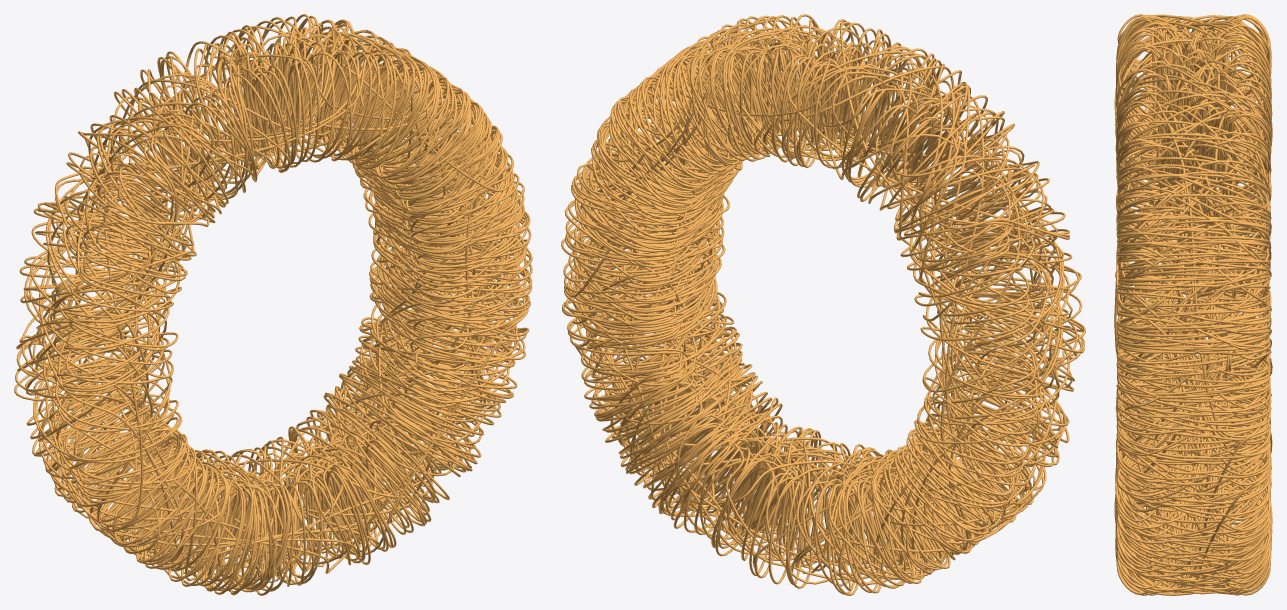
File: letter_o.glb
The picture shows the model from 3 angles, left to right: view 1: azimuth 30°, elevation 25°; view 2: azimuth 150°, elevation 25°; view 3: azimuth 270°, elevation 25°; orthographic projection.
Parts seen in each view (by area): view 1: letter_o; view 2: letter_o; view 3: letter_o.
Part boxes in pixels (x1,y1,x2,y2): letter_o: (14, 14, 532, 595); letter_o: (561, 14, 1085, 595); letter_o: (1114, 14, 1272, 595).
Bounding box in the file's own units: 0.5619 × 0.6021 × 0.1642.
